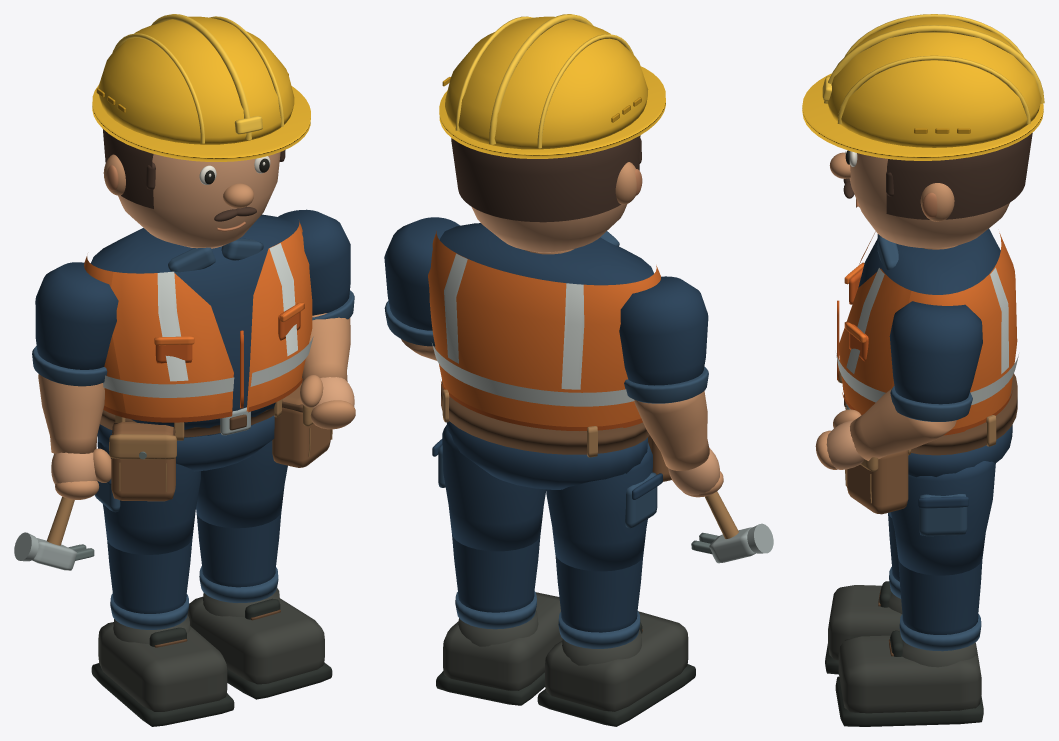
Rendered from bodur-usta.glb.
The picture shows the model from 3 angles, left to right: view 1: azimuth 30°, elevation 25°; view 2: azimuth 150°, elevation 25°; view 3: azimuth 270°, elevation 25°; orthographic projection. The views are drawn at different scales.
Visible parts, largest first — view 1: BaretKubbe, YelekOn-1, Gomlek, Yuz, BotGovde-1, BotGovde1, GomlekKol-1, YelekOn1, UstBacak1, UstBacak-1, BaretKenar, AltBacak-1 (+38 smaller); view 2: YelekArka, BaretKubbe, SacArka, GomlekKol-1, UstBacak-1, BotGovde-1, UstBacak1, Gomlek, PantolonBel, BotGovde1, AltBacak1, AltBacak-1 (+26 smaller); view 3: BaretKubbe, BotGovde1, GomlekKol1, SacArka, UstBacak1, YelekArka, Yuz, Gomlek, AltBacak1, YelekOn1, BaretKenar, OnKol1 (+22 smaller).
Boxes of the visible parts, x1=… form: BaretKubbe: x1=98, y1=16, x2=294, y2=144; YelekOn-1: x1=111, y1=272, x2=233, y2=417; Gomlek: x1=90, y1=214, x2=296, y2=438; Yuz: x1=118, y1=152, x2=280, y2=248; BotGovde-1: x1=98, y1=622, x2=227, y2=711; BotGovde1: x1=187, y1=596, x2=324, y2=684; GomlekKol-1: x1=35, y1=262, x2=118, y2=369; YelekOn1: x1=246, y1=227, x2=312, y2=411; UstBacak1: x1=196, y1=440, x2=287, y2=528; UstBacak-1: x1=97, y1=442, x2=200, y2=554; BaretKenar: x1=92, y1=85, x2=310, y2=161; AltBacak-1: x1=107, y1=538, x2=192, y2=613; YelekArka: x1=428, y1=231, x2=660, y2=426; BaretKubbe: x1=445, y1=16, x2=648, y2=149; SacArka: x1=451, y1=135, x2=640, y2=222; GomlekKol-1: x1=619, y1=276, x2=708, y2=385; UstBacak-1: x1=546, y1=442, x2=652, y2=571; BotGovde-1: x1=545, y1=611, x2=688, y2=711; UstBacak1: x1=442, y1=425, x2=546, y2=551; Gomlek: x1=440, y1=223, x2=653, y2=285; PantolonBel: x1=446, y1=421, x2=647, y2=489; BotGovde1: x1=443, y1=592, x2=562, y2=690; AltBacak1: x1=452, y1=534, x2=540, y2=612; AltBacak-1: x1=555, y1=554, x2=643, y2=632; BaretKubbe: x1=827, y1=17, x2=1041, y2=147; BotGovde1: x1=838, y1=635, x2=981, y2=713; GomlekKol1: x1=889, y1=301, x2=982, y2=404; SacArka: x1=886, y1=133, x2=1032, y2=219; UstBacak1: x1=891, y1=461, x2=995, y2=575; YelekArka: x1=891, y1=233, x2=1017, y2=429; Yuz: x1=849, y1=153, x2=1009, y2=248; Gomlek: x1=858, y1=228, x2=1000, y2=294; AltBacak1: x1=898, y1=559, x2=982, y2=634; YelekOn1: x1=838, y1=268, x2=910, y2=414; BaretKenar: x1=802, y1=73, x2=1043, y2=160; OnKol1: x1=850, y1=388, x2=956, y2=460.
Bounding box in the file's own units: 0.9324 × 1.65 × 0.5487.
